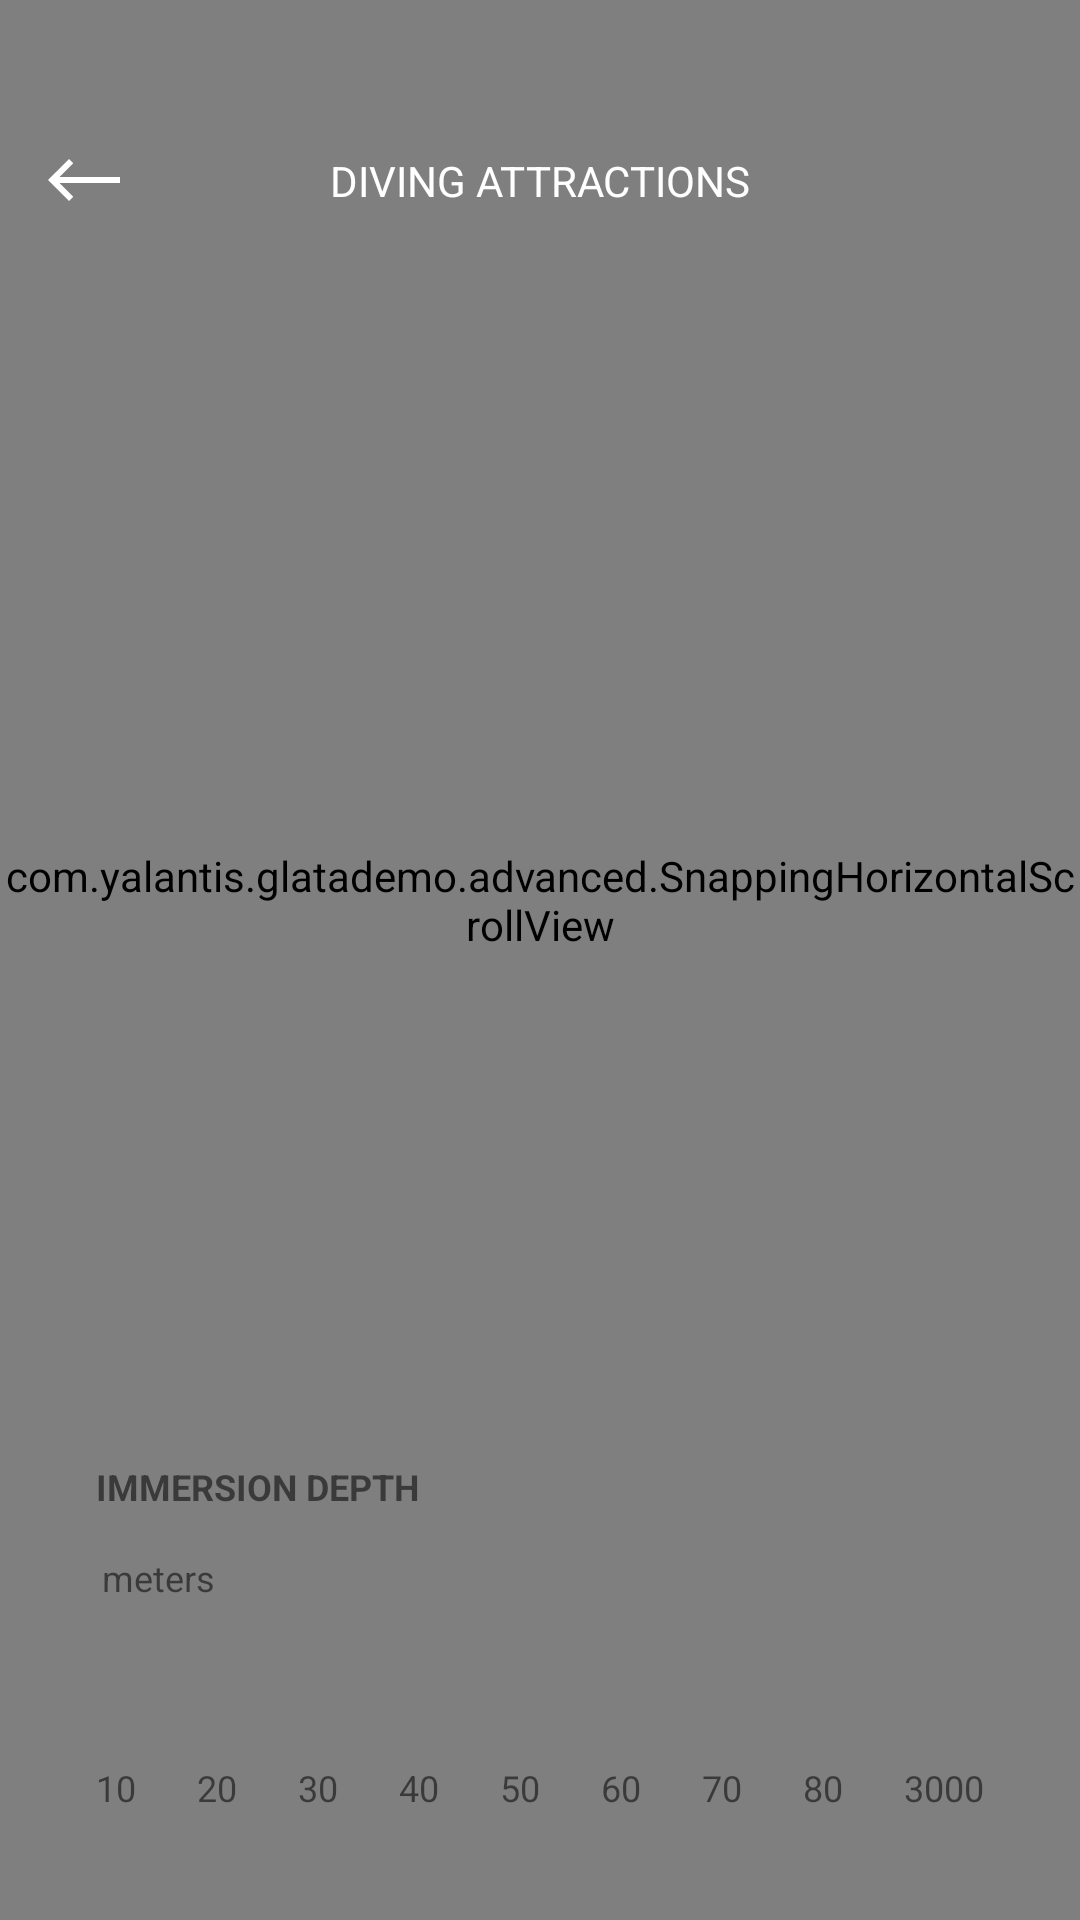

Icon bounding boxes for this 1080*1920 phone screenshot, format detection(x1, y1, x2, y2):
adv arrow: detection(48, 159, 120, 201)
